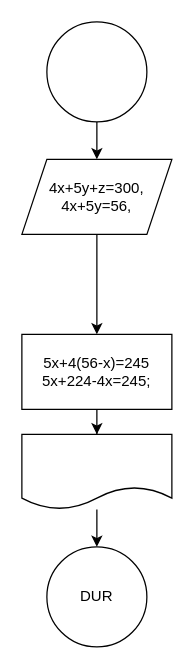
This 194x669 diagram has some shape labels left out. Each missing label, with the centre of its shape:
"BAŞLA" belongs at pixel 96 71.
"x=21" belongs at pixel 96 471.
